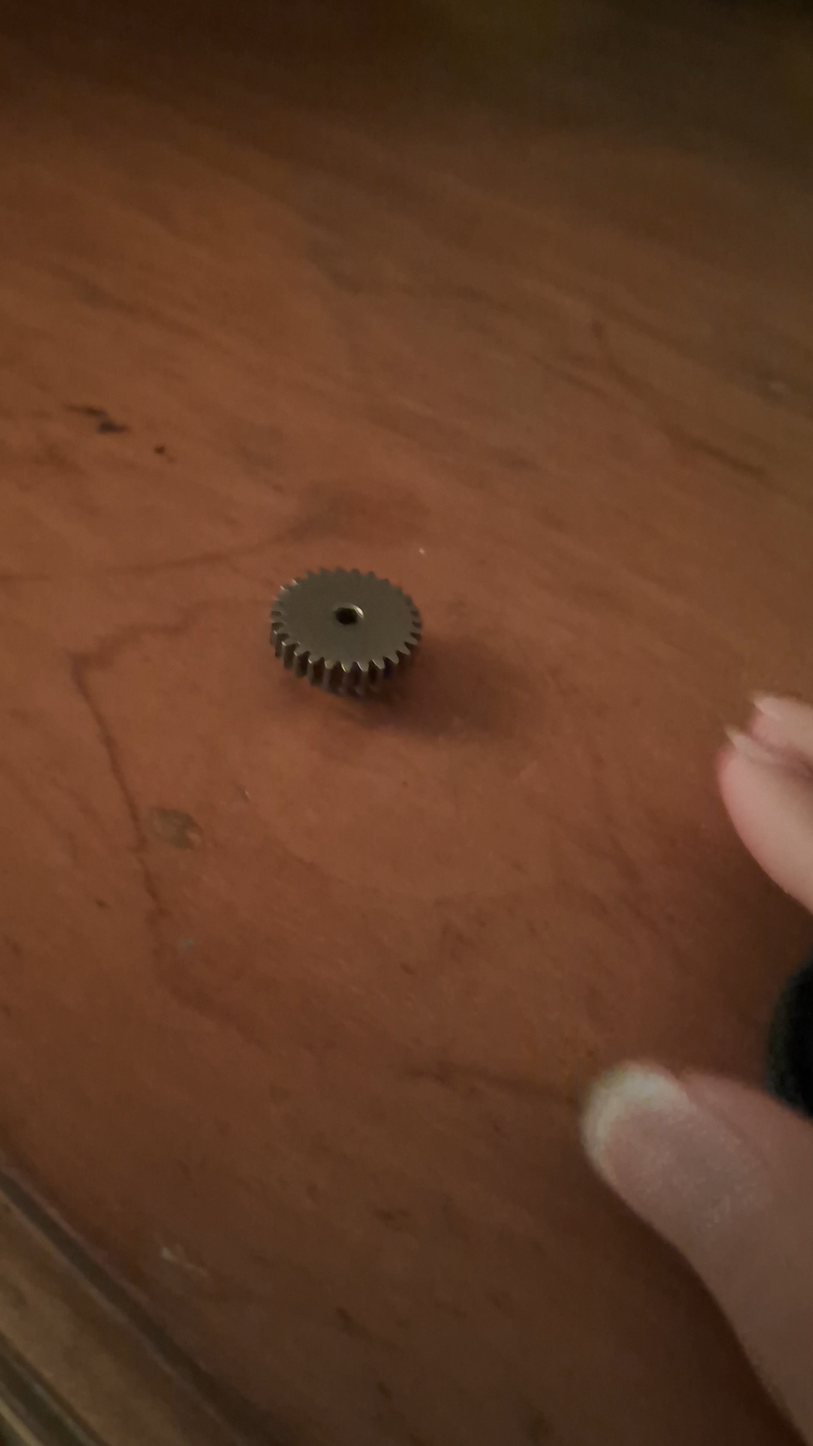spur gear: (271, 569, 420, 696)
